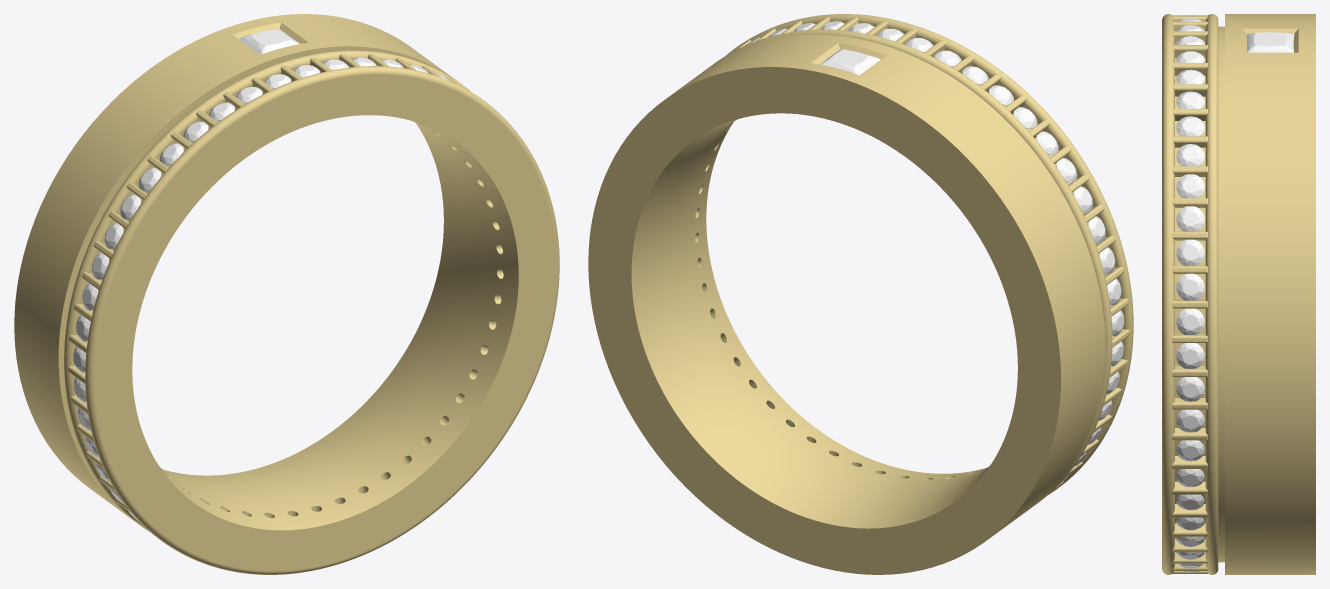
The model's file is alianca1.gltf.
3 views of the same model, side by side, from view 1: azimuth 30°, elevation 25°; view 2: azimuth 150°, elevation 25°; view 3: azimuth 270°, elevation 25° (orthographic). The views are drawn at different scales.
Parts seen in each view (by area): view 1: Node; view 2: Node; view 3: Node.
Boxes of the visible parts, x1,y1,x2,y2 form: Node: (14,14,559,574); Node: (588,14,1133,574); Node: (1162,14,1315,574).
Size of the model in its own units: 21.88 by 21.88 by 6.
